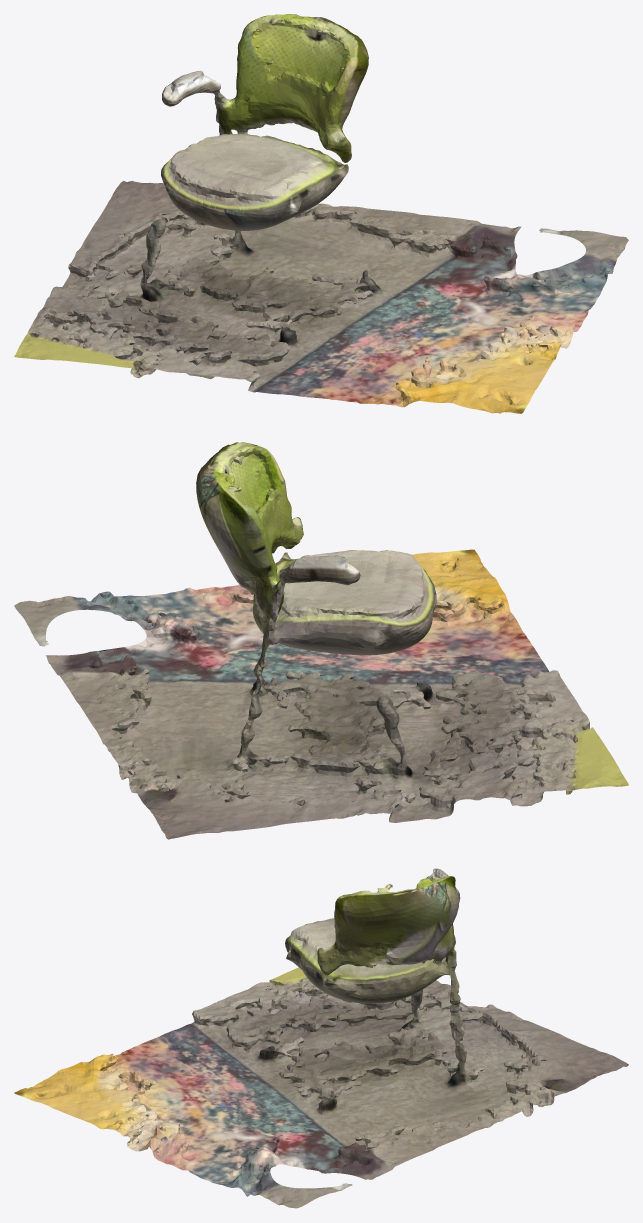
3 views of the same model, one above another, from view 1: azimuth 30°, elevation 25°; view 2: azimuth 150°, elevation 25°; view 3: azimuth 270°, elevation 25° (orthographic). The views are drawn at different scales.
Size of the model in its own units: 2.15 by 0.8566 by 2.15.
1 material, 1 textured.
